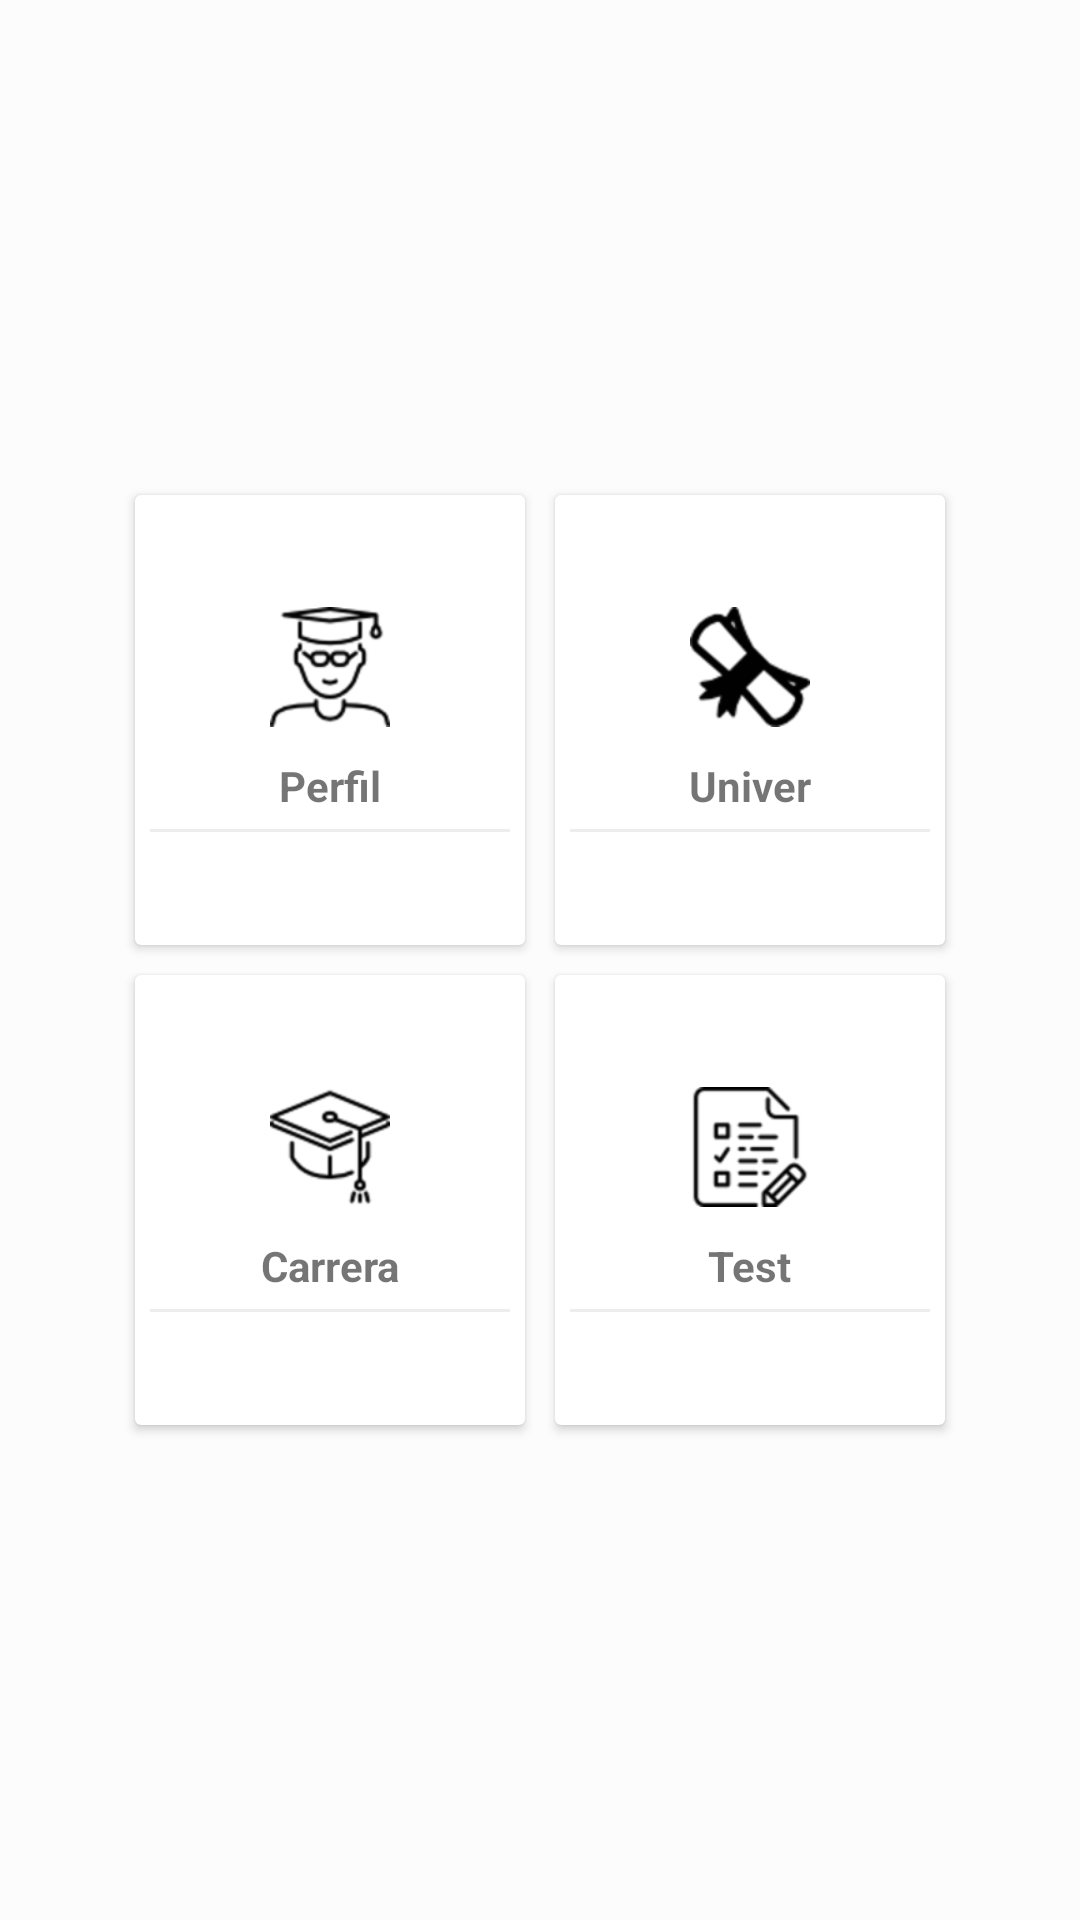

Screen size 1080*1920. Icon name, then its box in pixels as Rect(x1, y1, x2, y2):
exam: Rect(693, 1087, 807, 1207)
mortarboard: Rect(270, 1090, 390, 1204)
student: Rect(270, 607, 390, 727)
